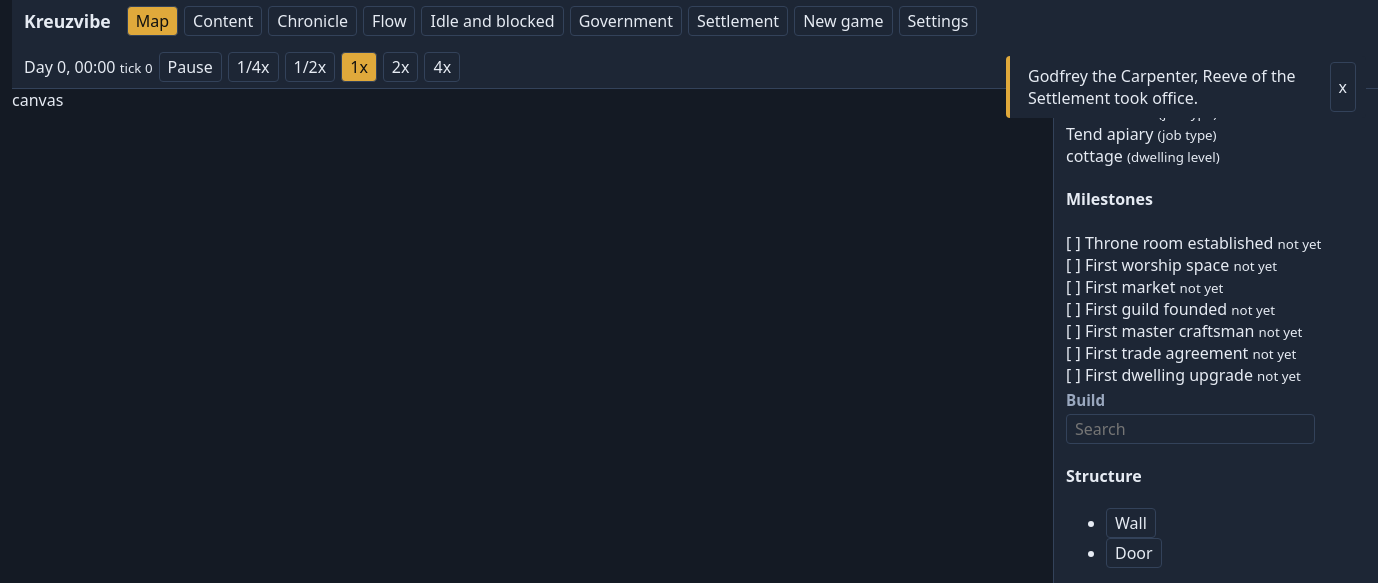
Test: BuildMenuPanel › filters by the search text
(page scrolled)
In the search field named "Search the build menu": (1190,429) [1066, 414, 1315, 444], type "oven"
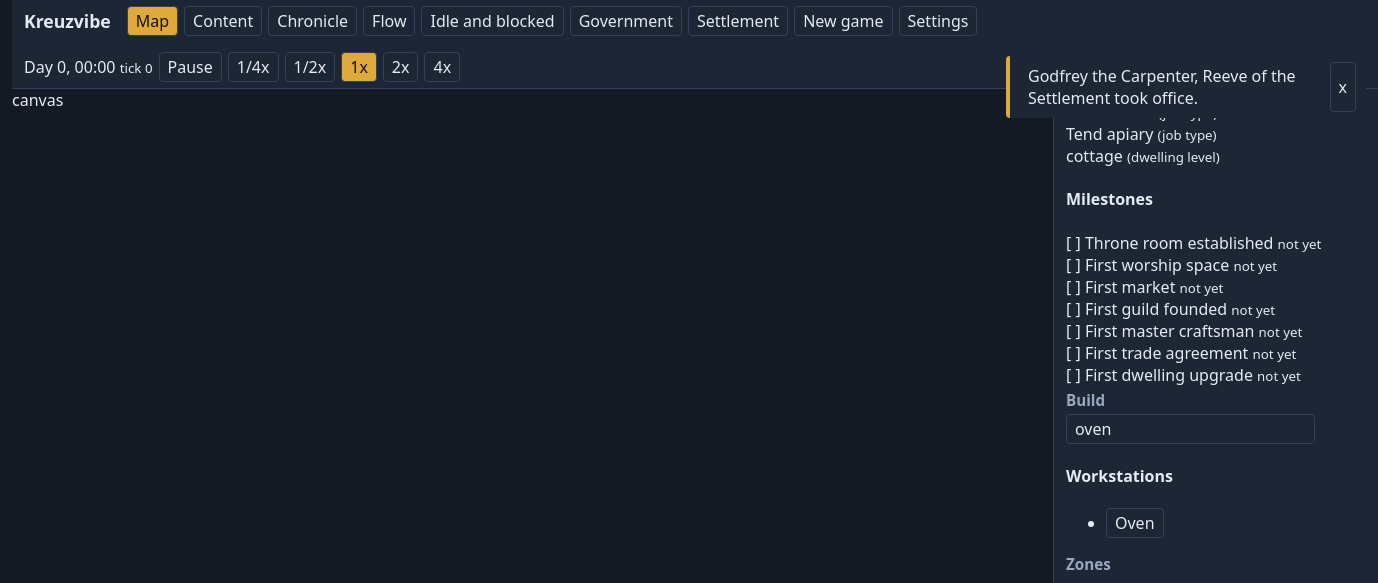
Expected: the button "Oven" is shown, [1106, 508, 1164, 538]
Replace the text in the search field named "Search the build menu" with "zzz": (1190,429) [1066, 414, 1315, 444]
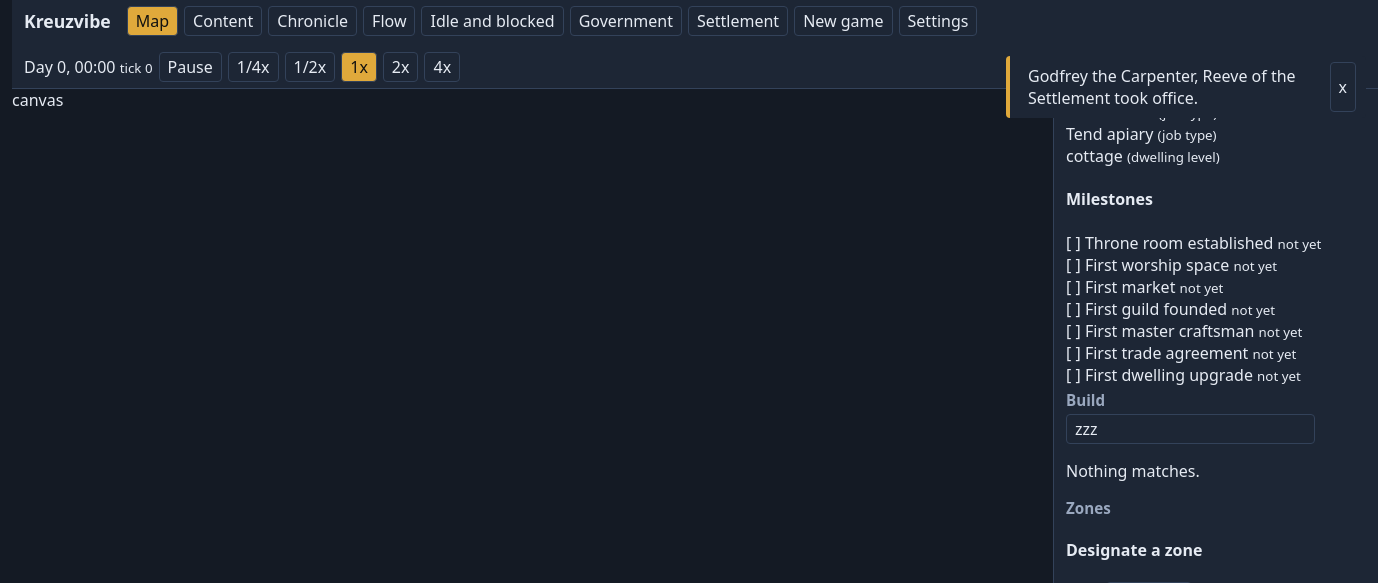
Expected: the text "Nothing matches." is shown, [1066, 460, 1200, 482]
